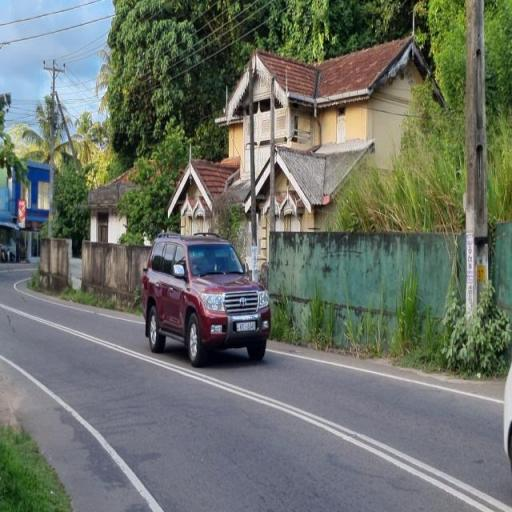double_white_line: (1, 354, 165, 510)
